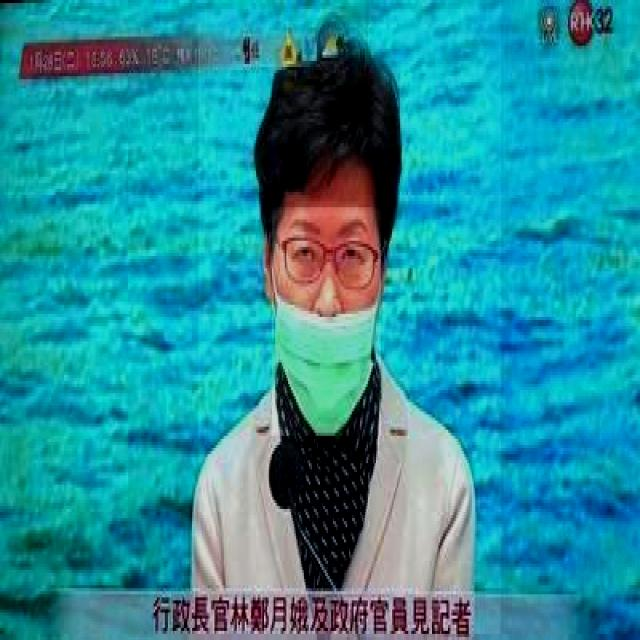face_mask: (272, 207, 381, 436)
glasses: (278, 227, 379, 294)
head_nohelmet: (261, 40, 398, 213)
person: (198, 9, 502, 637)
